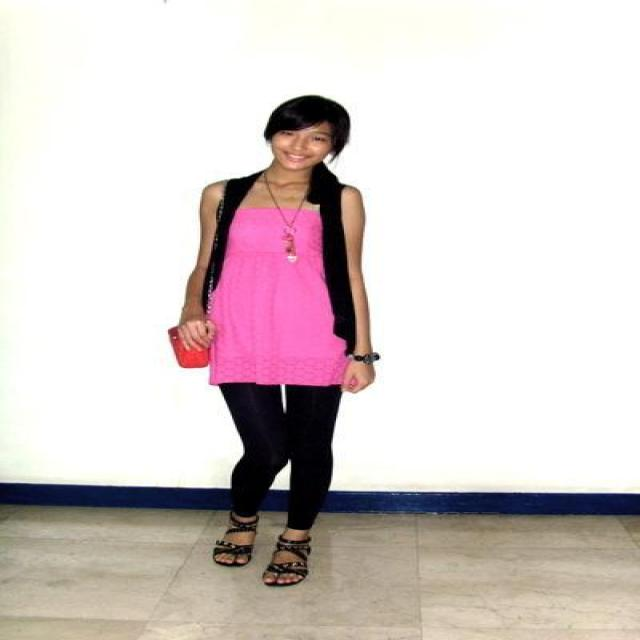bag: (168, 327, 210, 367)
dress: (208, 205, 347, 396)
jacket: (203, 166, 357, 344)
shoe: (213, 525, 309, 575)
